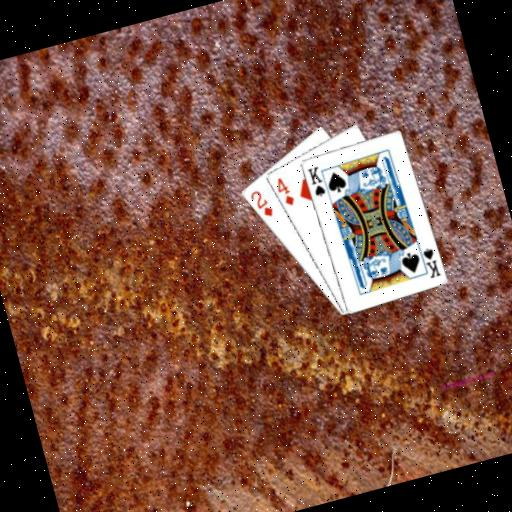2D: (245, 184, 276, 221)
4D: (270, 172, 296, 210)
KS: (415, 240, 442, 280), (303, 163, 327, 200)
